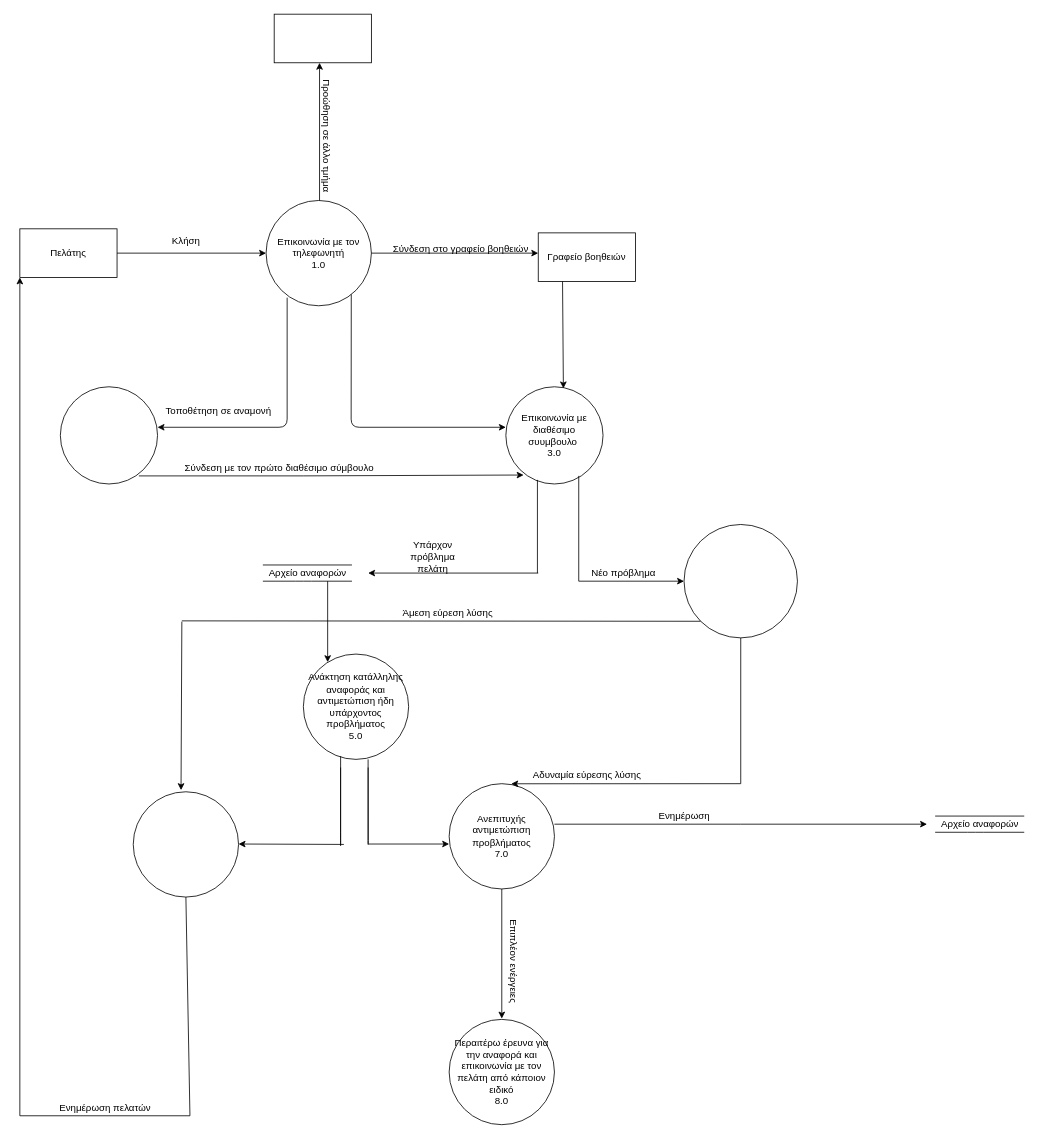
The diagram is 1039 pixels wide and 1139 high, and some of its shapes have lost their labels. The shapes that lost their labels are listed below. From the top down, each one's box as (x1, y1, x2, y2) in pixels, then its label:
(273, 13, 371, 63): Άλλες μονάδες της εταιρίας
(60, 386, 158, 484): Αναμονή μέχρι να βρεθεί διαθέσιμος σύμβουλος 2.0
(683, 524, 797, 638): Δημιουργία νέας αναφοράς για νέο πρόβλημα 4.0
(132, 791, 239, 897): Επιτυχής λύση προβλήματος και κλείσιμο αναφοράς 6.0
